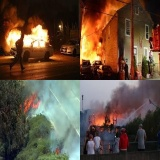fire: (6, 24, 50, 51), (80, 25, 101, 61), (16, 91, 40, 115), (89, 112, 116, 127), (54, 149, 59, 153)
